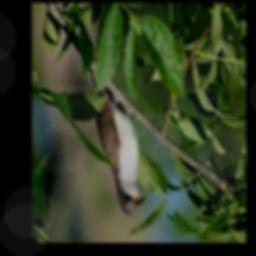Cuckoo: (84, 58, 146, 216)
